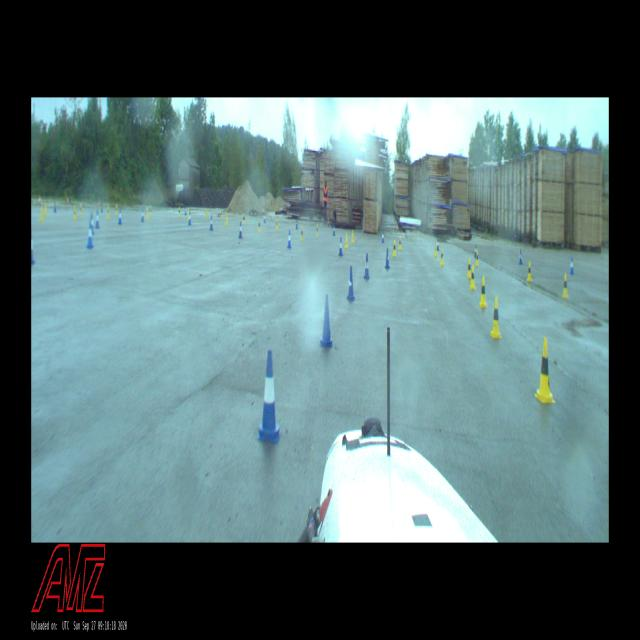blue_cone: (258, 351, 281, 443), (320, 294, 332, 347), (347, 266, 355, 300), (364, 253, 370, 279), (87, 224, 93, 248), (385, 248, 390, 268), (91, 213, 95, 234), (96, 210, 100, 228), (338, 238, 342, 255), (288, 231, 292, 248), (570, 257, 574, 274), (238, 221, 242, 238), (118, 210, 122, 224), (519, 249, 522, 264), (210, 216, 213, 230), (188, 212, 191, 226), (141, 209, 144, 222), (474, 245, 476, 258), (382, 231, 384, 243), (333, 224, 335, 236), (437, 238, 439, 250), (264, 214, 266, 223)
yellow_cone: (534, 338, 555, 403), (490, 296, 502, 338), (479, 275, 487, 307), (470, 265, 476, 289), (562, 274, 568, 297), (527, 262, 532, 281), (467, 258, 471, 278), (440, 248, 444, 265), (475, 251, 479, 266), (300, 227, 304, 240), (393, 240, 396, 256), (434, 242, 437, 257), (345, 234, 348, 248), (258, 219, 261, 232), (351, 230, 354, 243), (399, 237, 401, 250), (226, 214, 228, 226), (276, 219, 278, 230), (316, 225, 318, 236), (243, 214, 245, 224)
